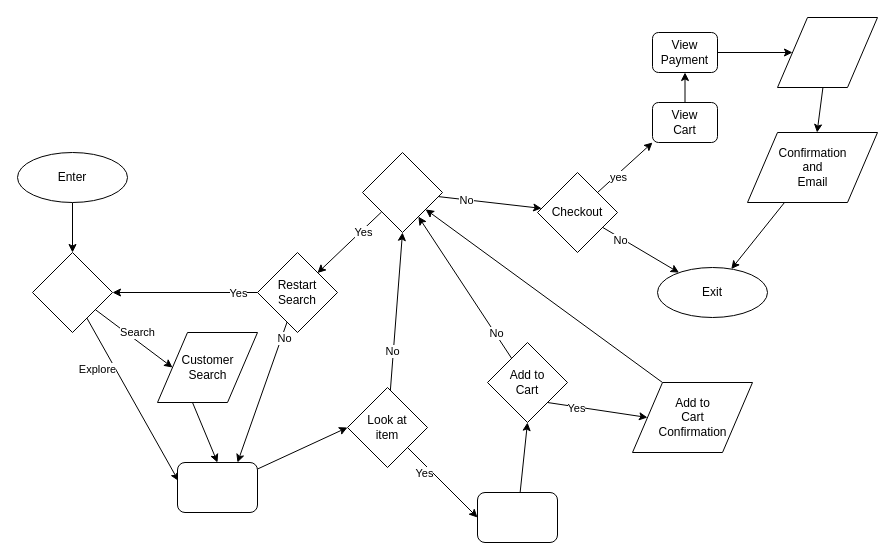
Some shapes in this 895 by 560 pixel diagram are drawn without their labels. Each missing label, with the centre of its shape:
Continue Shopping: [402,192]
Go To product Website: [517,517]
Look at products: [217,487]
Menu: [72,292]
Payment Information: [827,52]
